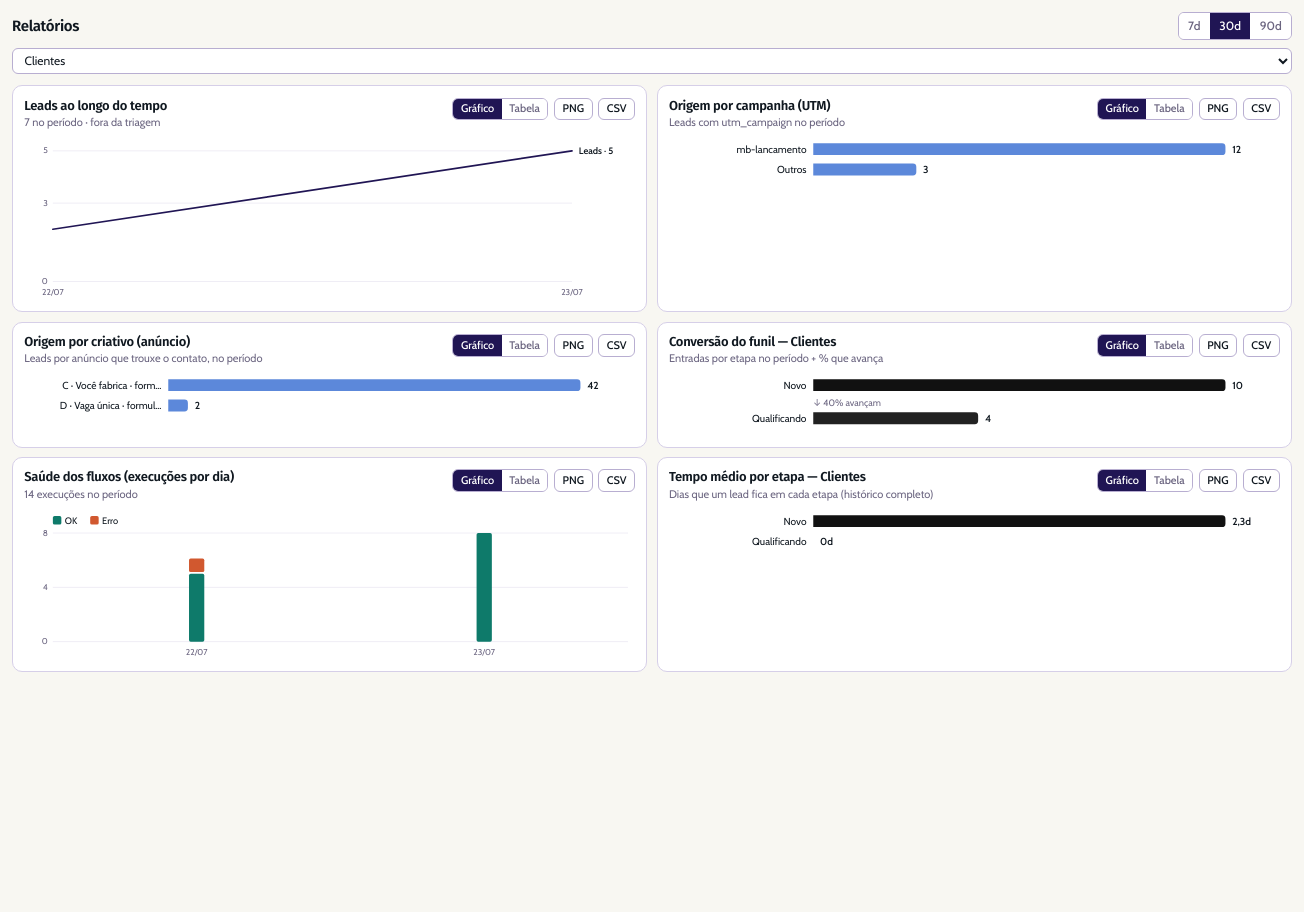
Test: RelatoriosGraficos (M8) › toggle Tabela mostra a vista equivalente com os números
Click the button with test id "origem-utm-vista-tabela": (1169, 109) [1146,99,1192,119]
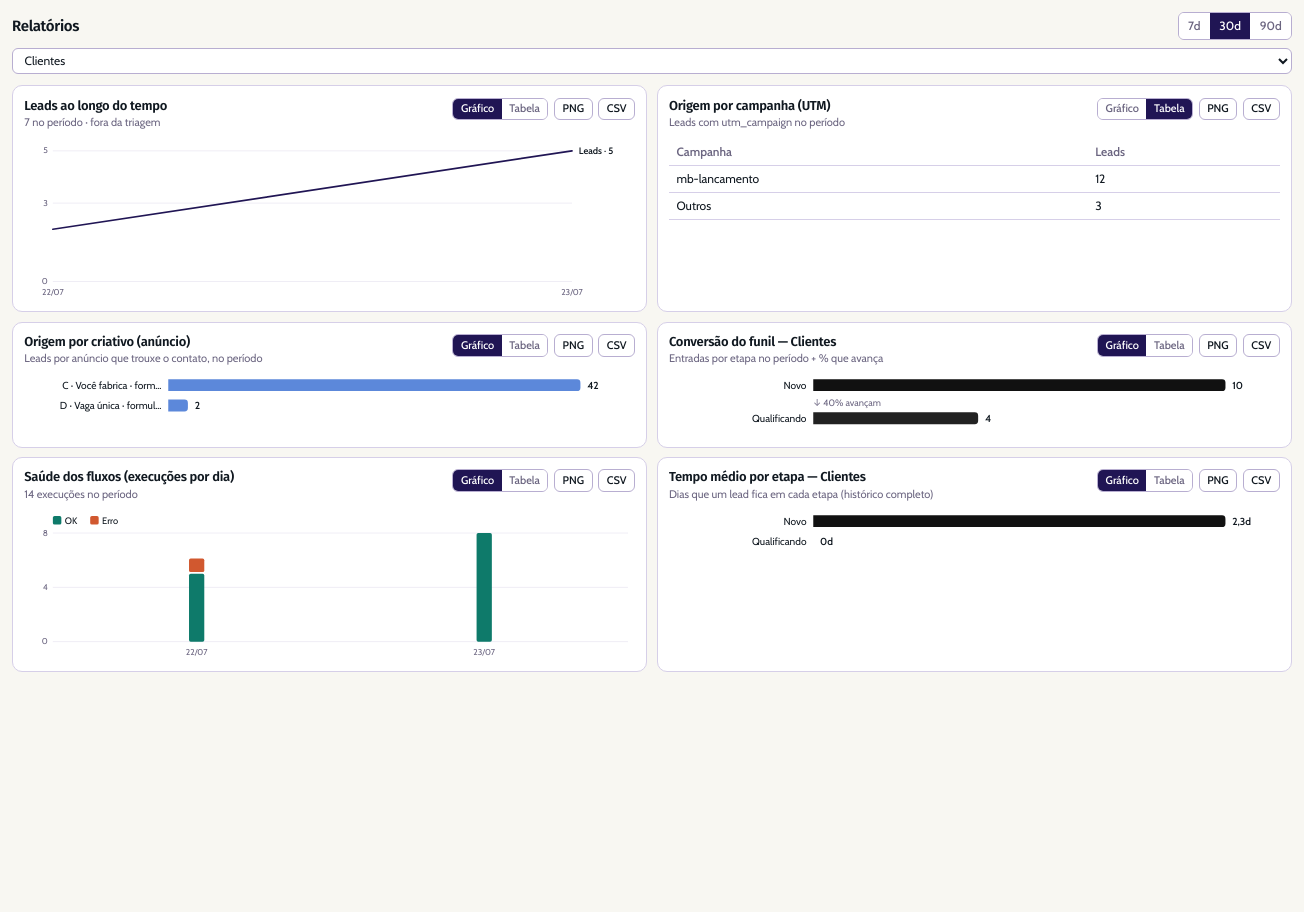
Expected: the text "mb-lancamento" is shown, [669,166,1088,193]
Expected: the column heading "Campanha" is shown, [669,139,1088,166]
